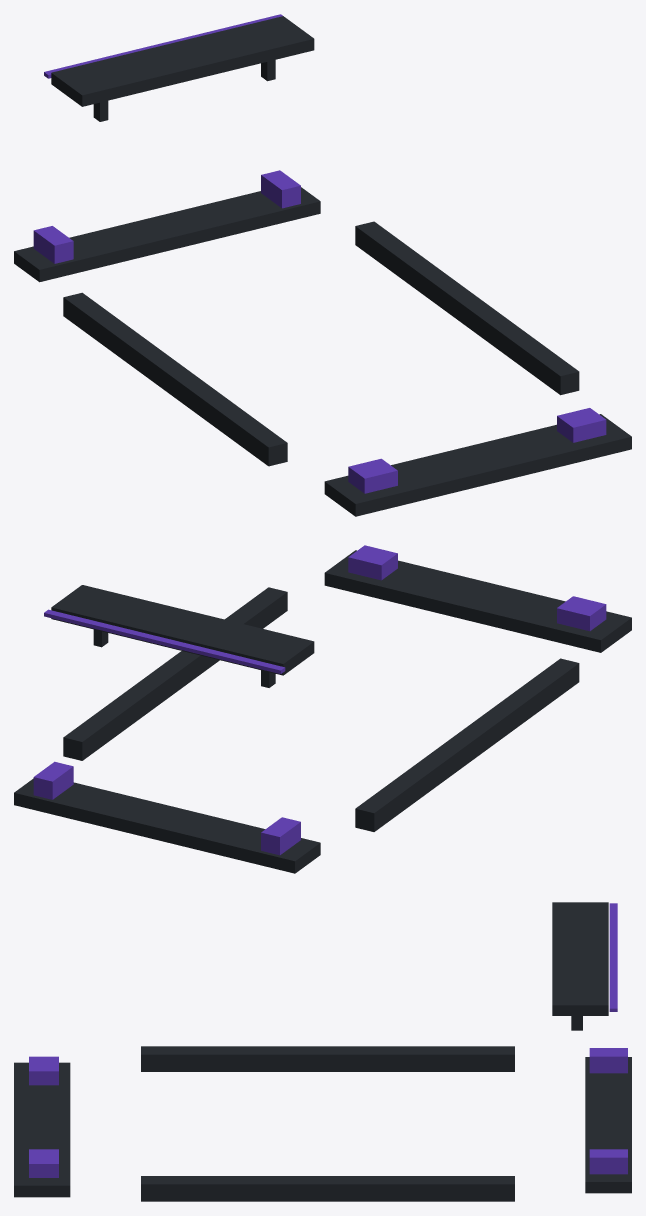
Rendered from black_maria_aero_dress.obj.
3 views of the same model, one above another, from view 1: azimuth 30°, elevation 25°; view 2: azimuth 150°, elevation 25°; view 3: azimuth 270°, elevation 25° (orthographic). The views are drawn at different scales.
Parts seen in each view (by area): view 1: SIDE_SKIRTS, FRONT_SPLITTER, GT_WING, REAR_DIFFUSER, AIR_INTAKE, DIFFUSER_END, GT_WING_EDGE; view 2: SIDE_SKIRTS, FRONT_SPLITTER, REAR_DIFFUSER, GT_WING, AIR_INTAKE, DIFFUSER_END, GT_WING_EDGE, REAR_WING_POSTS; view 3: SIDE_SKIRTS, GT_WING, FRONT_SPLITTER, REAR_DIFFUSER, DIFFUSER_END, AIR_INTAKE, GT_WING_EDGE.
Part boxes in pixels (bbox=[...]): SIDE_SKIRTS: bbox=[63, 221, 579, 466]; FRONT_SPLITTER: bbox=[324, 414, 631, 516]; GT_WING: bbox=[51, 16, 314, 106]; REAR_DIFFUSER: bbox=[14, 187, 320, 282]; AIR_INTAKE: bbox=[348, 408, 606, 493]; DIFFUSER_END: bbox=[33, 170, 300, 263]; GT_WING_EDGE: bbox=[44, 14, 282, 78]; SIDE_SKIRTS: bbox=[63, 587, 579, 831]; FRONT_SPLITTER: bbox=[324, 550, 631, 652]; REAR_DIFFUSER: bbox=[14, 778, 320, 873]; GT_WING: bbox=[51, 585, 314, 675]; AIR_INTAKE: bbox=[348, 545, 606, 631]; DIFFUSER_END: bbox=[33, 761, 300, 855]; GT_WING_EDGE: bbox=[44, 609, 285, 673]; REAR_WING_POSTS: bbox=[93, 629, 275, 687]; SIDE_SKIRTS: bbox=[141, 1046, 514, 1201]; GT_WING: bbox=[552, 902, 608, 1015]; FRONT_SPLITTER: bbox=[14, 1062, 70, 1197]; REAR_DIFFUSER: bbox=[585, 1057, 631, 1193]; DIFFUSER_END: bbox=[589, 1048, 627, 1174]; AIR_INTAKE: bbox=[29, 1056, 58, 1177]; GT_WING_EDGE: bbox=[609, 903, 617, 1011].
Bounding box in the file's own units: 1.97 × 1.21 × 3.72.
